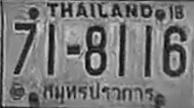1: (117, 23, 126, 76), (46, 22, 54, 74), (144, 25, 151, 76)
6: (162, 25, 186, 76)
7: (13, 22, 36, 74)
8: (84, 24, 106, 75)
SPK: (40, 81, 154, 102)
